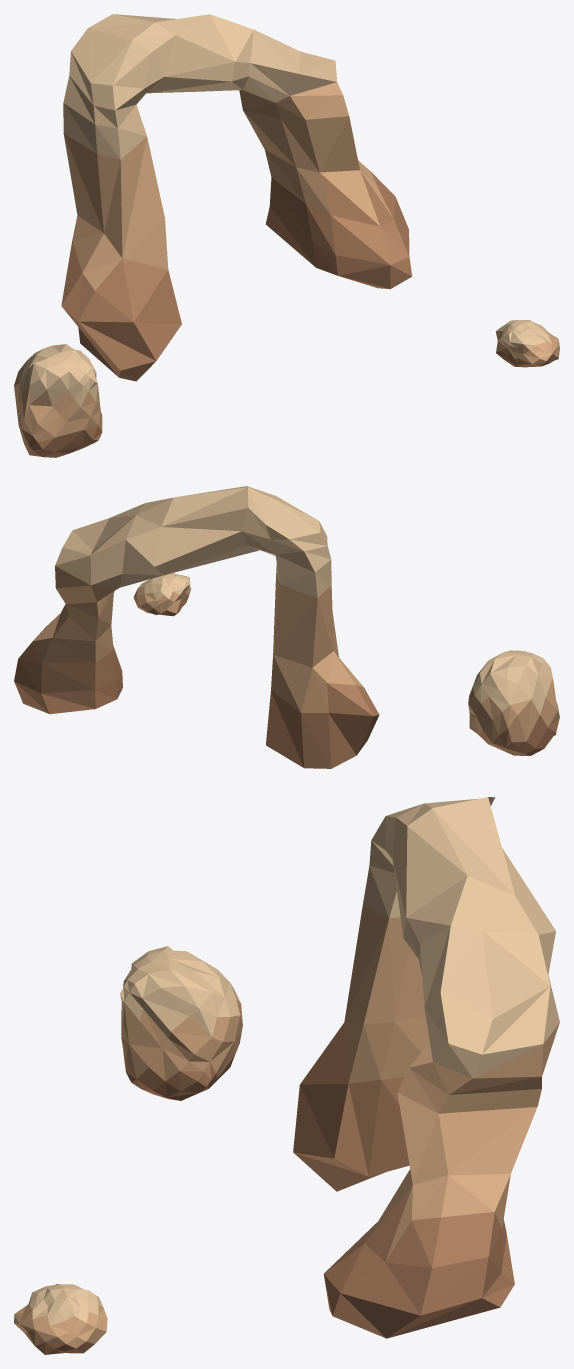
Rendered from canyon-2-1.glb.
The picture shows the model from 3 angles, top to bottom: view 1: azimuth 30°, elevation 25°; view 2: azimuth 150°, elevation 25°; view 3: azimuth 270°, elevation 25°; orthographic projection. The views are drawn at different scales.
Visible parts, largest first — view 1: canyon-2-1; view 2: canyon-2-1; view 3: canyon-2-1.
Boxes of the visible parts, x1,y1,x2,y2 form: canyon-2-1: (14, 14, 559, 457); canyon-2-1: (14, 486, 559, 768); canyon-2-1: (14, 797, 559, 1354).
Size of the model in its own units: 50.48 by 31 by 36.6.
